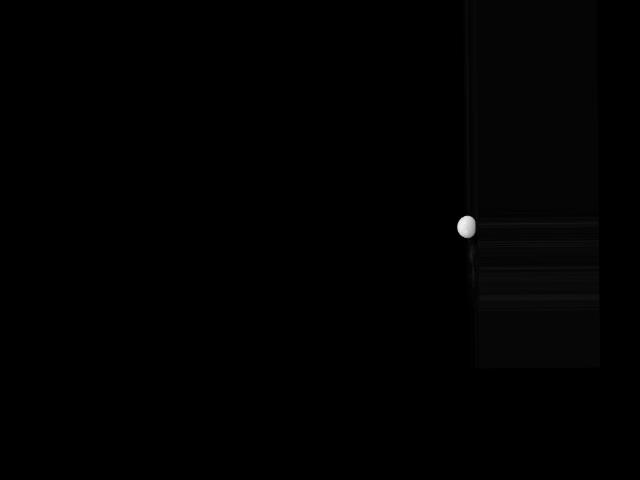egg: (457, 215, 475, 238)
